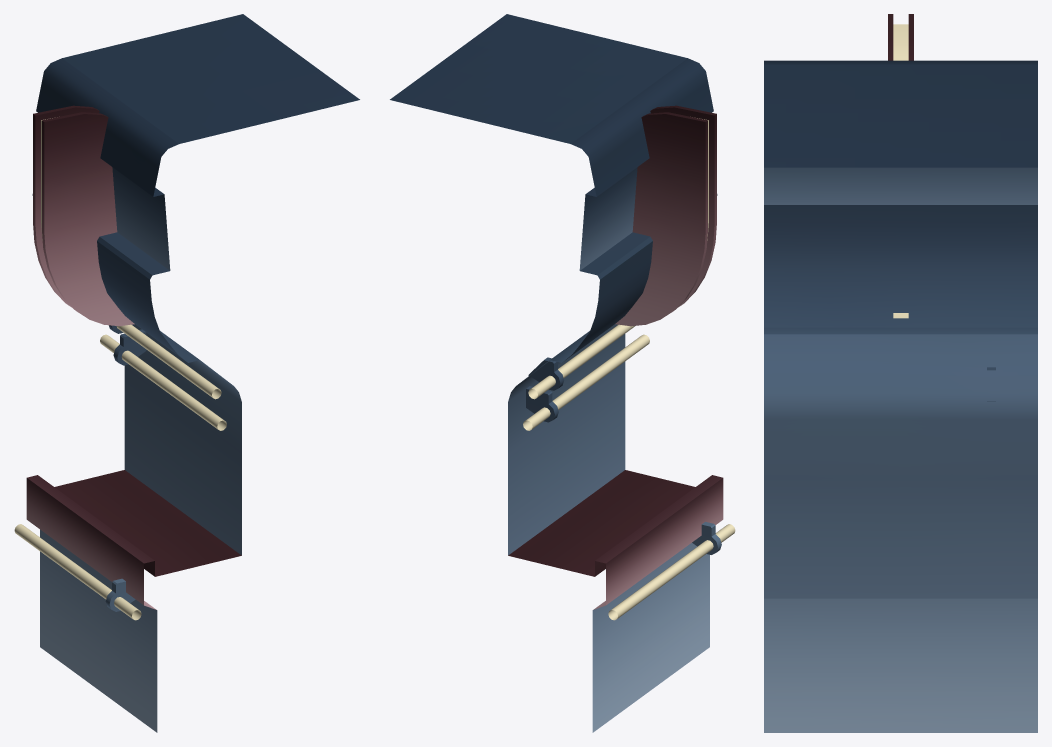
File: ENV_WalkwayWall_Straight.FBX
3 views of the same model, side by side, from view 1: azimuth 30°, elevation 25°; view 2: azimuth 150°, elevation 25°; view 3: azimuth 270°, elevation 25° (orthographic). The views are drawn at different scales.
Parts seen in each view (by area): view 1: ENV_WalkwayWall_Straight; view 2: ENV_WalkwayWall_Straight; view 3: ENV_WalkwayWall_Straight.
Boxes of the visible parts, x1,y1,x2,y2 form: ENV_WalkwayWall_Straight: (14, 14, 359, 732); ENV_WalkwayWall_Straight: (390, 14, 735, 732); ENV_WalkwayWall_Straight: (764, 14, 1037, 732).
Bounding box in the file's own units: 648 × 1379 × 500.
2 materials, 2 textured.
